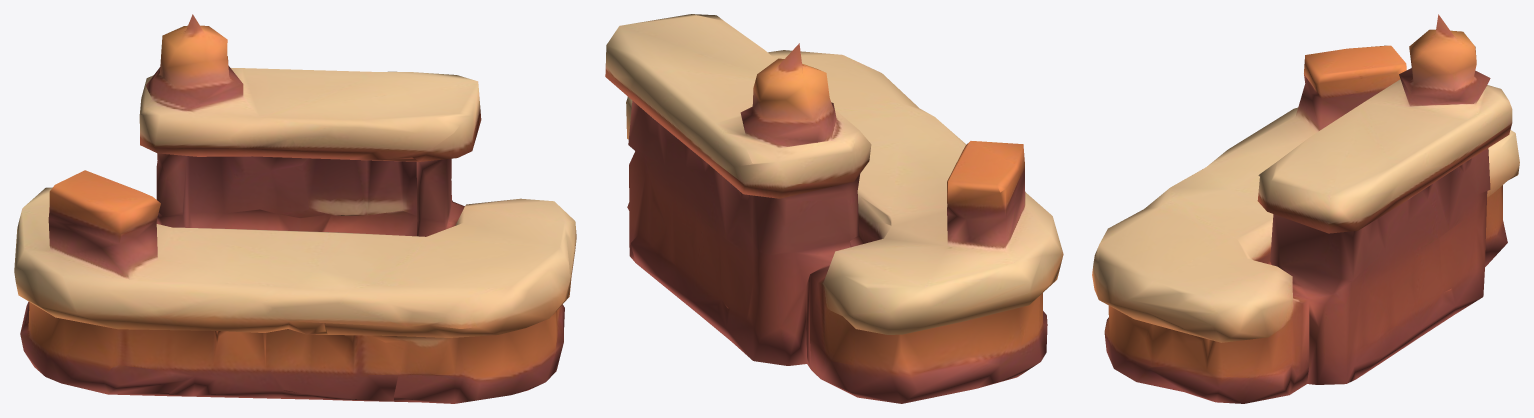
Rendered from shop_counter.glb.
3 views of the same model, side by side, from view 1: azimuth 30°, elevation 25°; view 2: azimuth 150°, elevation 25°; view 3: azimuth 270°, elevation 25° (orthographic). The views are drawn at different scales.
Parts seen in each view (by area): view 1: tripo_node_d0136129-0b67-4143-b426-04b0532f67fe; view 2: tripo_node_d0136129-0b67-4143-b426-04b0532f67fe; view 3: tripo_node_d0136129-0b67-4143-b426-04b0532f67fe.
Part boxes in pixels (bbox=[...]): tripo_node_d0136129-0b67-4143-b426-04b0532f67fe: bbox=[14, 14, 576, 403]; tripo_node_d0136129-0b67-4143-b426-04b0532f67fe: bbox=[605, 14, 1063, 403]; tripo_node_d0136129-0b67-4143-b426-04b0532f67fe: bbox=[1092, 14, 1519, 403].
Bounding box in the file's own units: 1 × 0.593 × 0.8368.
Materials: 1 (1 with a texture image).
